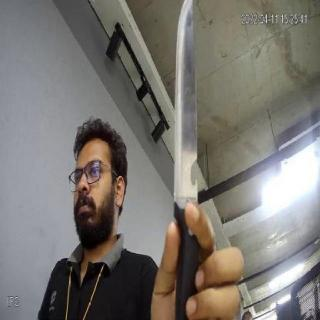knife: (162, 1, 210, 273)
